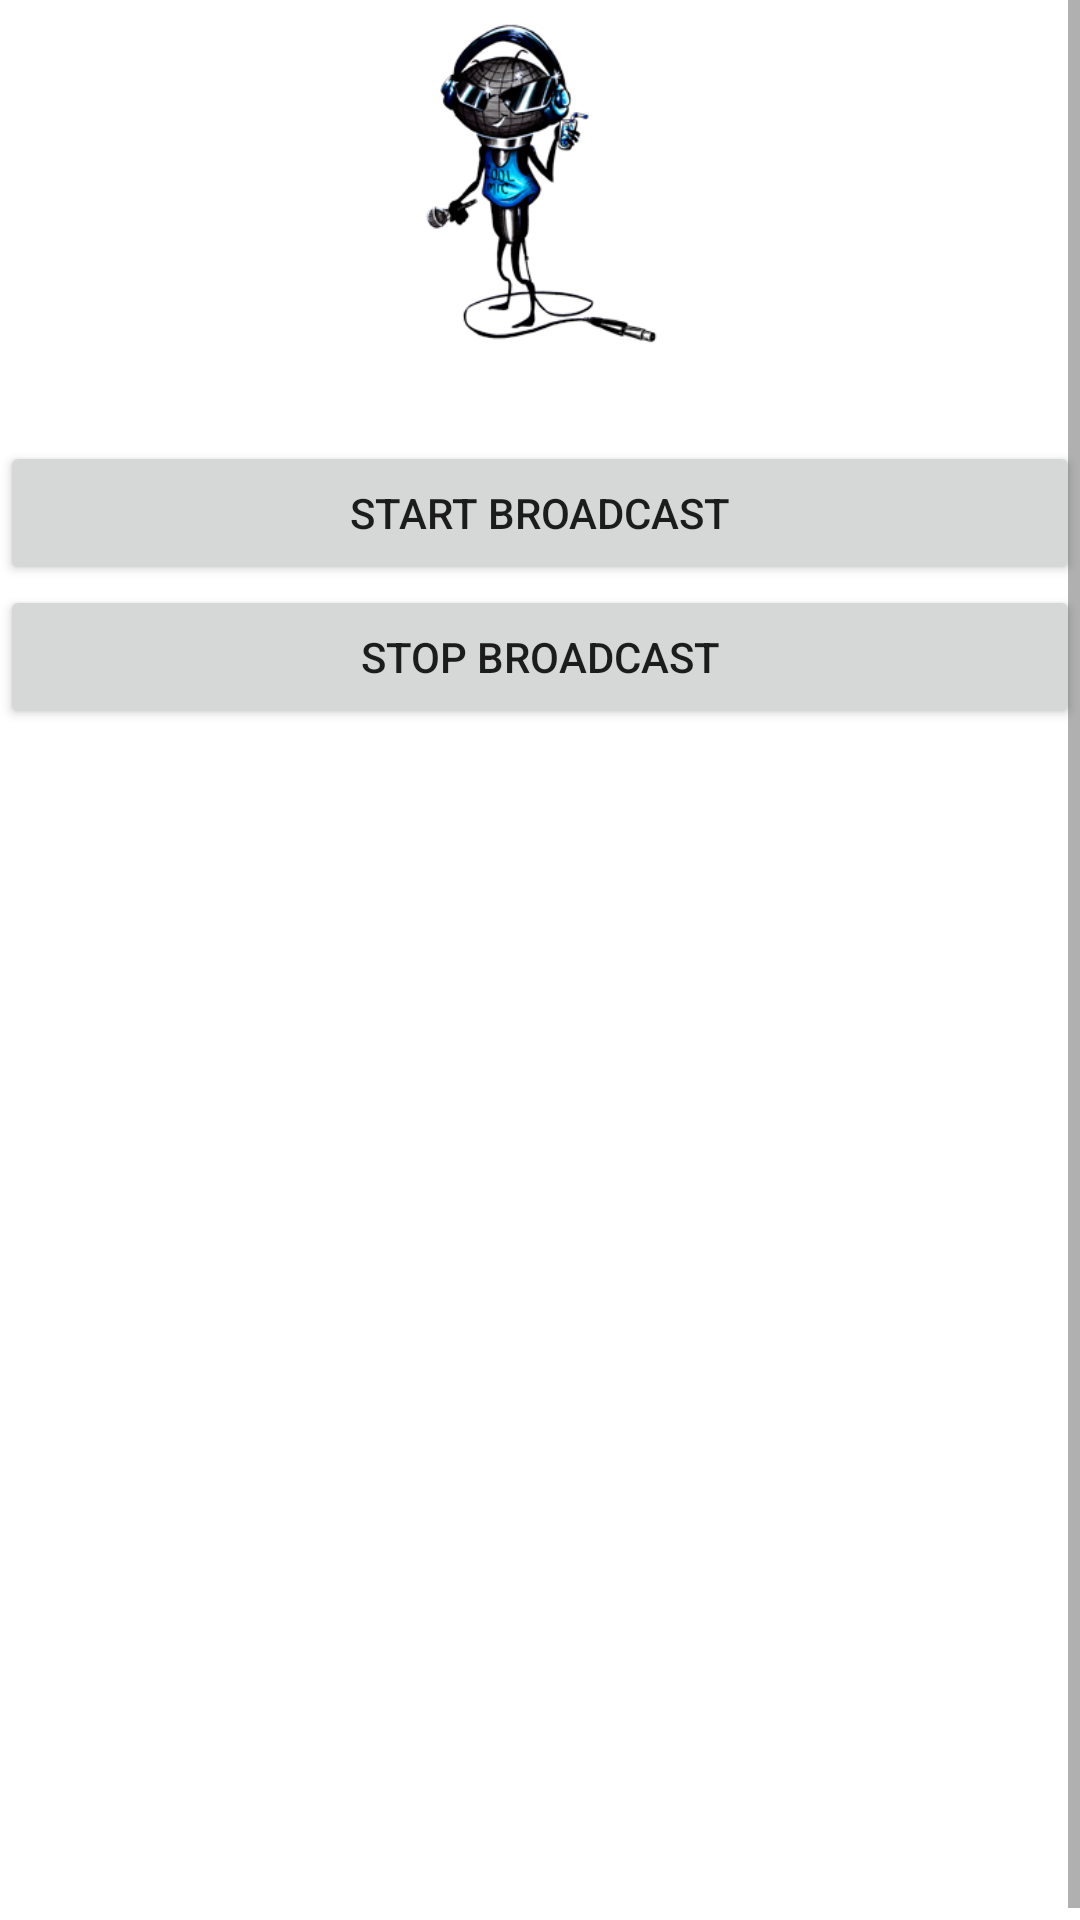

Icon bounding boxes for this 1080x1920 phone screenshot, format (x1,y1,x2,y2):
mic: (426,24,657,342)
